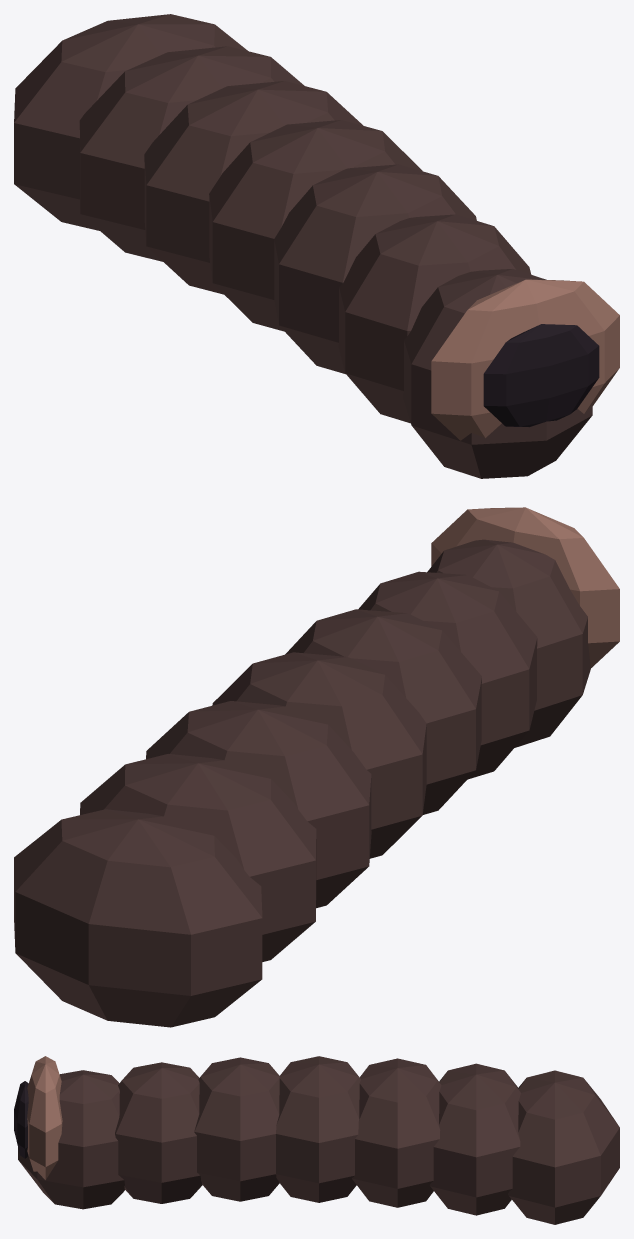
Rendered from fauna-fen_leech.glb.
3 renders of one model, top to bottom at view 1: azimuth 30°, elevation 25°; view 2: azimuth 150°, elevation 25°; view 3: azimuth 270°, elevation 25°, orthographic. The views are drawn at different scales.
Parts seen in each view (by area): view 1: Fauna_fen_leech; view 2: Fauna_fen_leech; view 3: Fauna_fen_leech.
Part boxes in pixels (x1,y1,x2,y2): Fauna_fen_leech: [14, 14, 619, 478]; Fauna_fen_leech: [14, 507, 619, 1027]; Fauna_fen_leech: [14, 1056, 619, 1224].
Size of the model in its own units: 0.5516 by 0.48 by 1.77.
